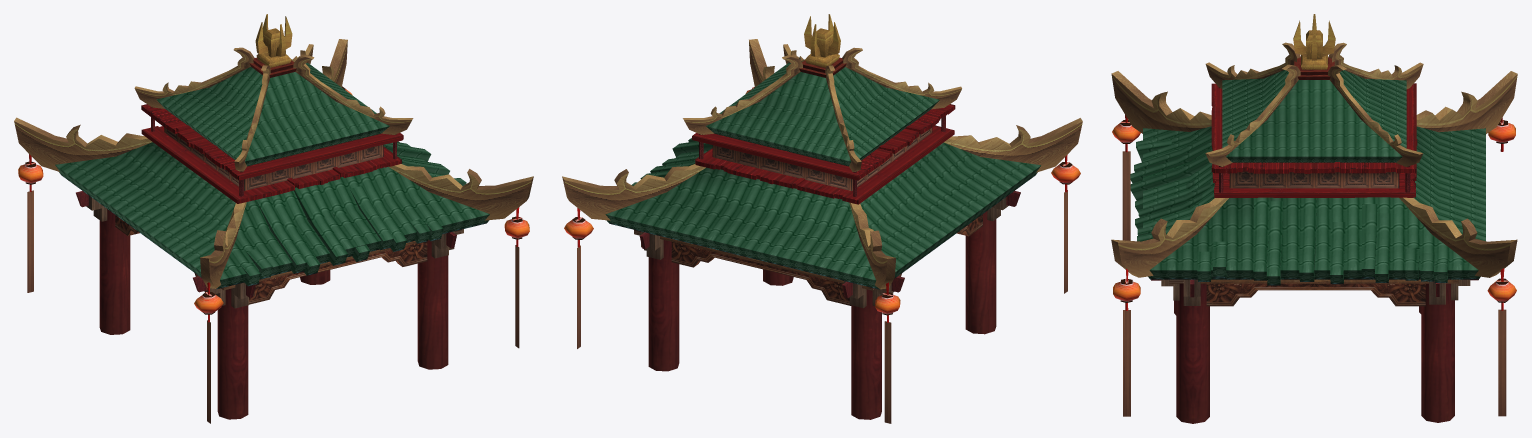
Rendered from daliang_field_b_n01b.fbx.
3 views of the same model, side by side, from view 1: azimuth 30°, elevation 25°; view 2: azimuth 150°, elevation 25°; view 3: azimuth 270°, elevation 25° (orthographic). The views are drawn at different scales.
Visible parts, largest first — view 1: daliang_field_b_n01b:daliang_field_b_n01b; view 2: daliang_field_b_n01b:daliang_field_b_n01b; view 3: daliang_field_b_n01b:daliang_field_b_n01b.
Part boxes in pixels (<box>): daliang_field_b_n01b:daliang_field_b_n01b: <box>14,14,533,423</box>; daliang_field_b_n01b:daliang_field_b_n01b: <box>562,14,1082,423</box>; daliang_field_b_n01b:daliang_field_b_n01b: <box>1111,14,1517,423</box>.
Size of the model in its own units: 1094 by 1023 by 1094.
